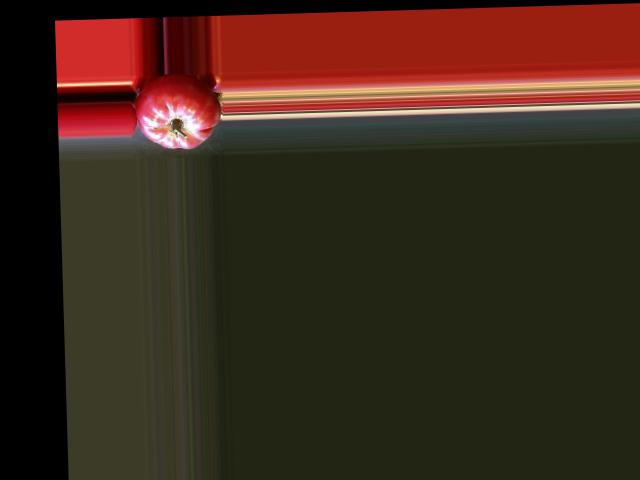tomato: (134, 71, 222, 150)
